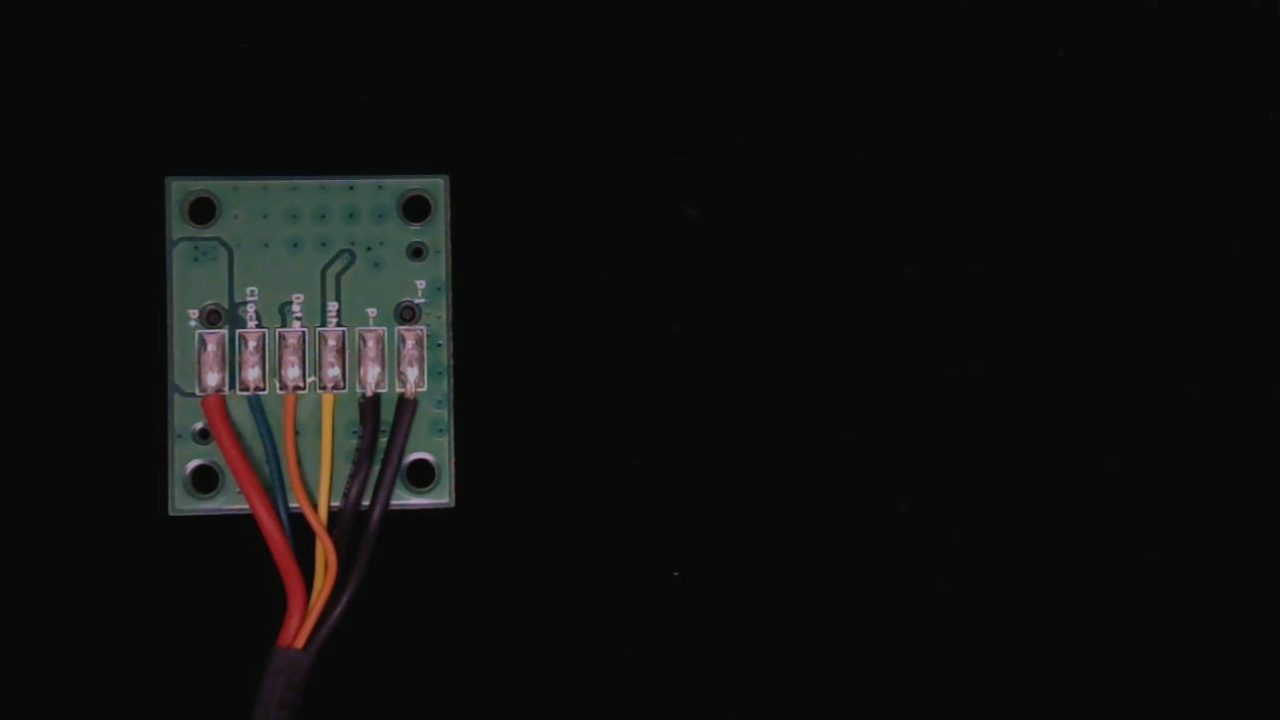Black: (356, 376, 386, 442)
Black1: (397, 375, 427, 436)
Green: (236, 377, 269, 439)
Orange: (276, 378, 307, 444)
Red: (196, 380, 231, 438)
Yellow: (314, 377, 347, 439)
